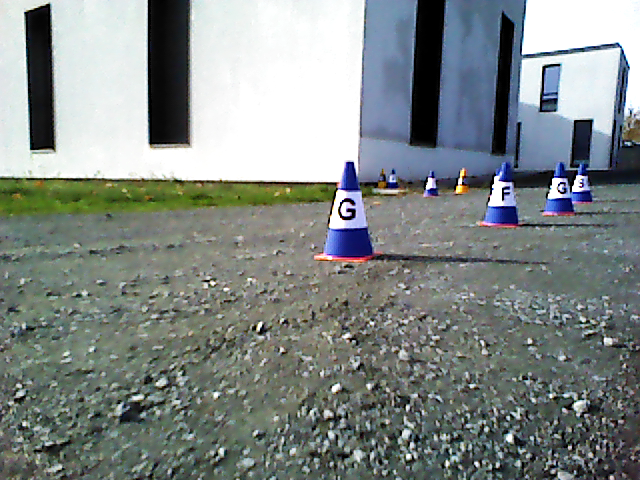bluecone: (327, 163, 373, 255), (486, 164, 519, 223), (545, 163, 576, 212), (571, 164, 593, 200), (425, 171, 439, 196)
yellowcone: (455, 168, 471, 194)
